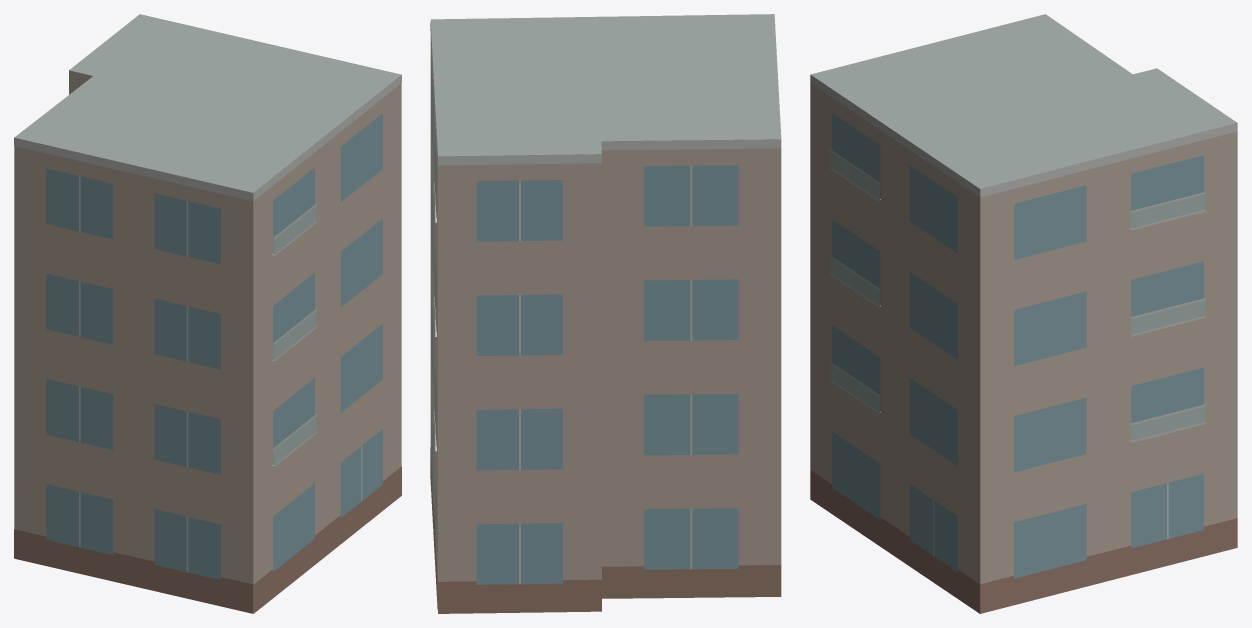
The model's file is survey-upis-32768801.glb.
3 renders of one model, left to right at view 1: azimuth 30°, elevation 25°; view 2: azimuth 150°, elevation 25°; view 3: azimuth 270°, elevation 25°, orthographic. The views are drawn at different scales.
Visible parts, largest first — view 1: survey-upis-32768801.tmp; view 2: survey-upis-32768801.tmp; view 3: survey-upis-32768801.tmp.
Boxes of the visible parts, <box> form: survey-upis-32768801.tmp: <box>14,14,401,613</box>; survey-upis-32768801.tmp: <box>430,14,781,613</box>; survey-upis-32768801.tmp: <box>810,14,1237,613</box>.
Size of the model in its own units: 10.78 by 12.2 by 11.13.
